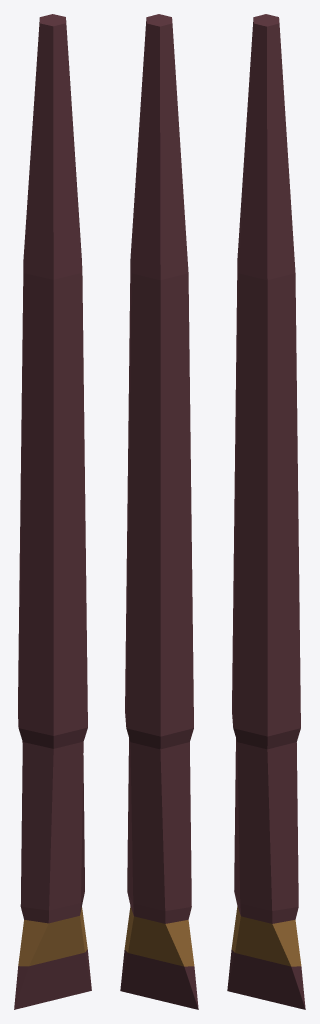
Rendered from tools-paintbrush-flat-paint.glb.
3 views of the same model, side by side, from view 1: azimuth 30°, elevation 25°; view 2: azimuth 150°, elevation 25°; view 3: azimuth 330°, elevation 25° (orthographic).
Parts seen in each view (by area): view 1: paintbrush-flat-paint; view 2: paintbrush-flat-paint; view 3: paintbrush-flat-paint.
Part boxes in pixels (x1=…): paintbrush-flat-paint: x1=14, y1=14, x2=91, y2=1009; paintbrush-flat-paint: x1=120, y1=14, x2=198, y2=1009; paintbrush-flat-paint: x1=227, y1=14, x2=305, y2=1009.
Bounding box in the file's own units: 0.0193 × 0.2319 × 0.0146.
